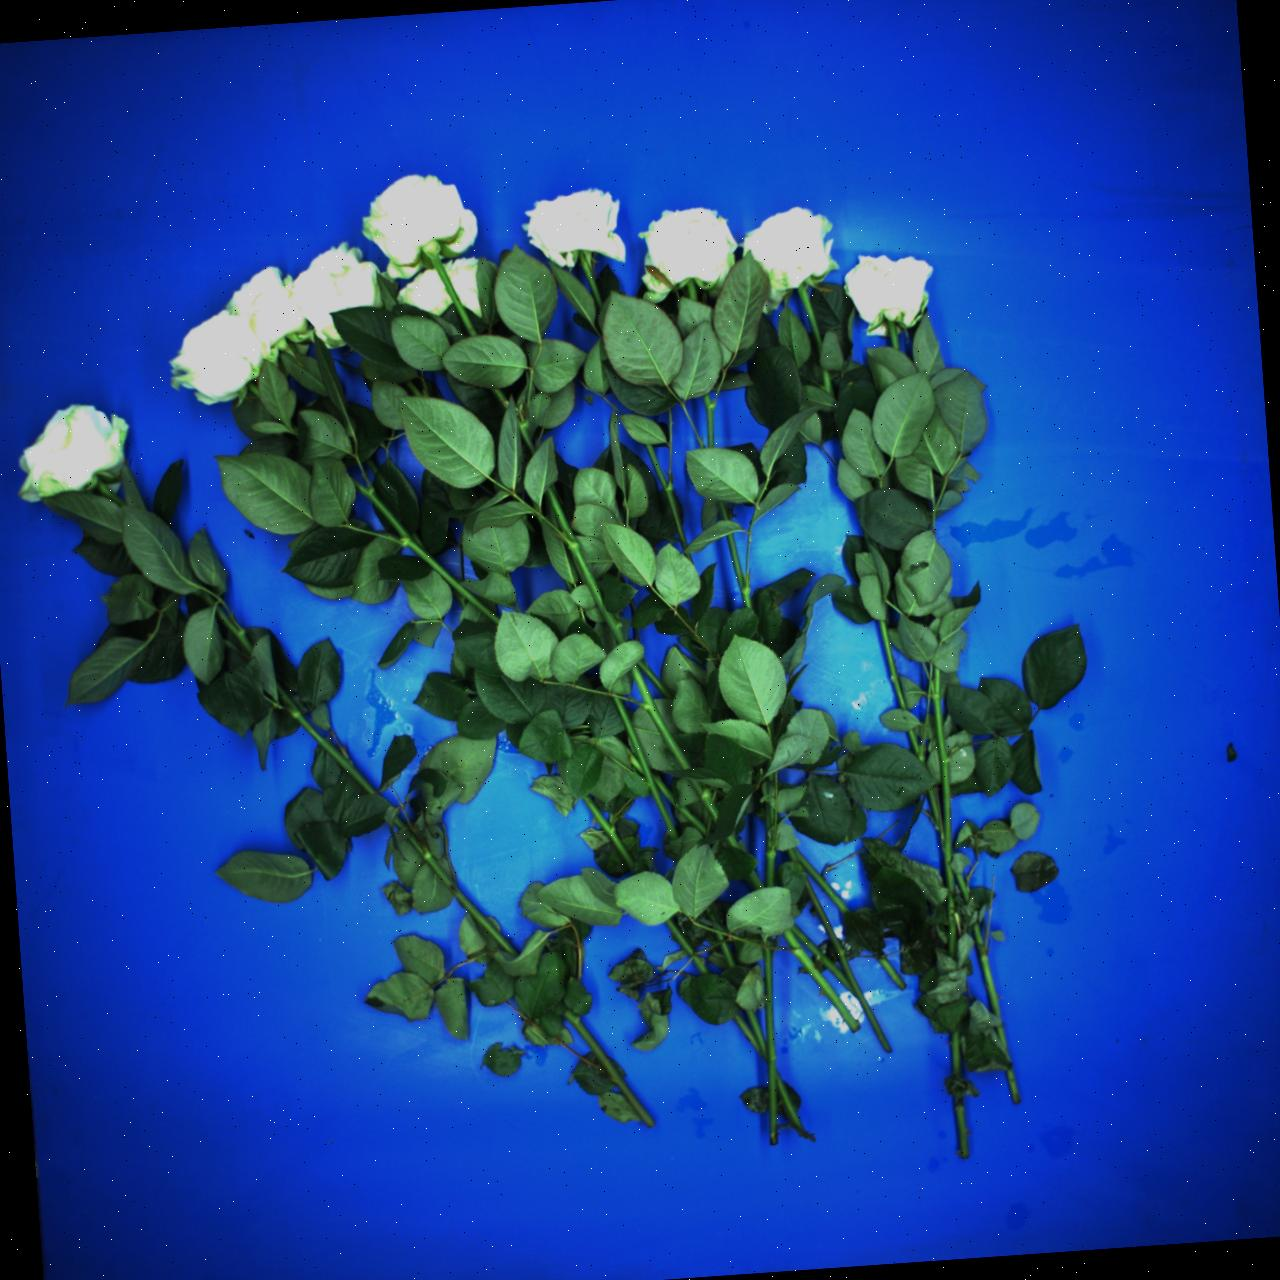Stem: (340, 469, 503, 635), (802, 876, 892, 1057), (406, 833, 519, 961), (540, 486, 628, 646), (267, 682, 380, 802), (560, 1007, 658, 1131), (611, 693, 679, 842), (779, 928, 862, 1034), (930, 666, 958, 961), (624, 666, 693, 775), (790, 924, 862, 998), (645, 442, 688, 553), (583, 791, 638, 874), (195, 588, 260, 655), (429, 252, 478, 339), (790, 846, 851, 915), (647, 774, 710, 837), (763, 940, 778, 1146), (877, 619, 907, 713), (665, 918, 712, 978), (973, 924, 1000, 1020), (723, 533, 756, 612), (771, 1071, 806, 1138), (704, 905, 737, 969), (797, 287, 828, 354), (635, 659, 675, 702), (688, 775, 723, 823), (733, 1013, 768, 1060), (579, 251, 605, 312), (745, 1008, 771, 1061), (876, 953, 907, 992), (515, 415, 538, 457), (95, 482, 124, 512), (765, 803, 776, 887), (926, 787, 945, 833), (954, 1097, 968, 1158), (703, 394, 717, 448), (906, 729, 927, 764), (490, 384, 512, 411), (625, 743, 642, 777), (954, 872, 973, 904), (1006, 1068, 1021, 1104), (822, 368, 837, 401), (743, 870, 764, 893), (450, 586, 470, 610), (404, 379, 423, 400), (952, 1032, 960, 1077), (996, 1027, 1009, 1055), (888, 322, 900, 353), (724, 835, 741, 853), (520, 515, 536, 533), (719, 501, 730, 522), (366, 458, 380, 476), (392, 816, 407, 831), (787, 847, 799, 865), (688, 281, 699, 301), (683, 552, 693, 566)
flower: (350, 156, 489, 293), (723, 190, 853, 314), (2, 393, 141, 505), (275, 231, 397, 354), (162, 298, 278, 418), (631, 199, 745, 304), (220, 258, 322, 361), (522, 186, 626, 270), (844, 254, 933, 338), (393, 265, 457, 329), (443, 256, 483, 320)
